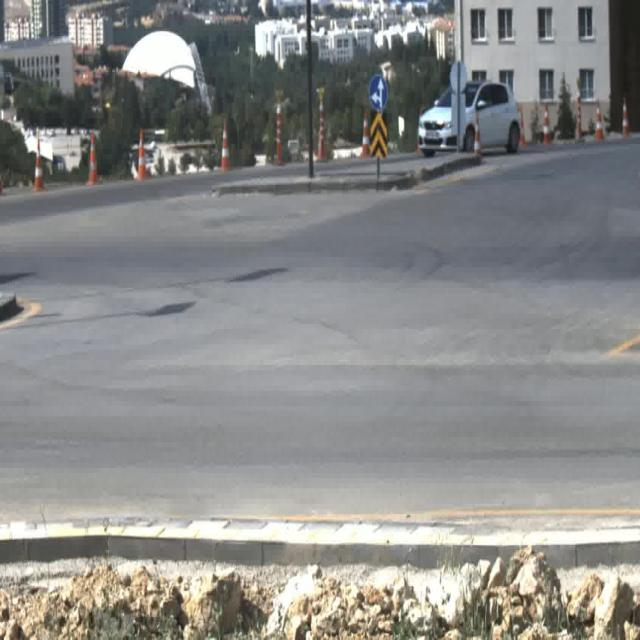Car: (417, 84, 522, 160)
